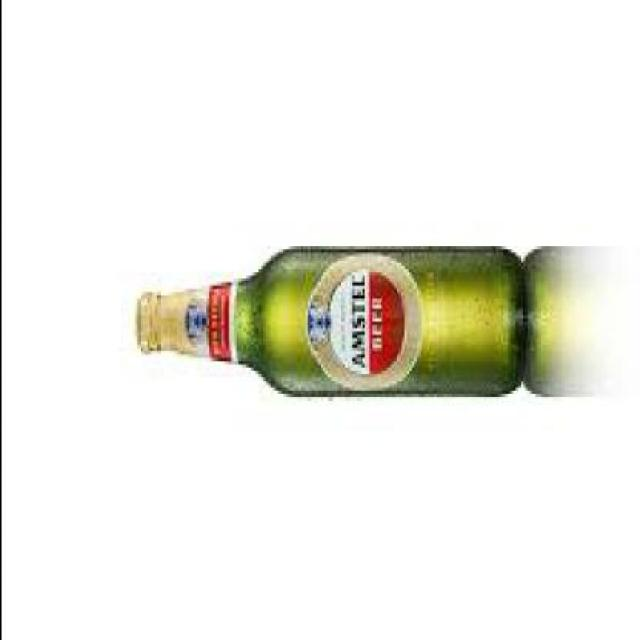GLASS: (140, 249, 522, 400)
METAL: (133, 302, 149, 355)
